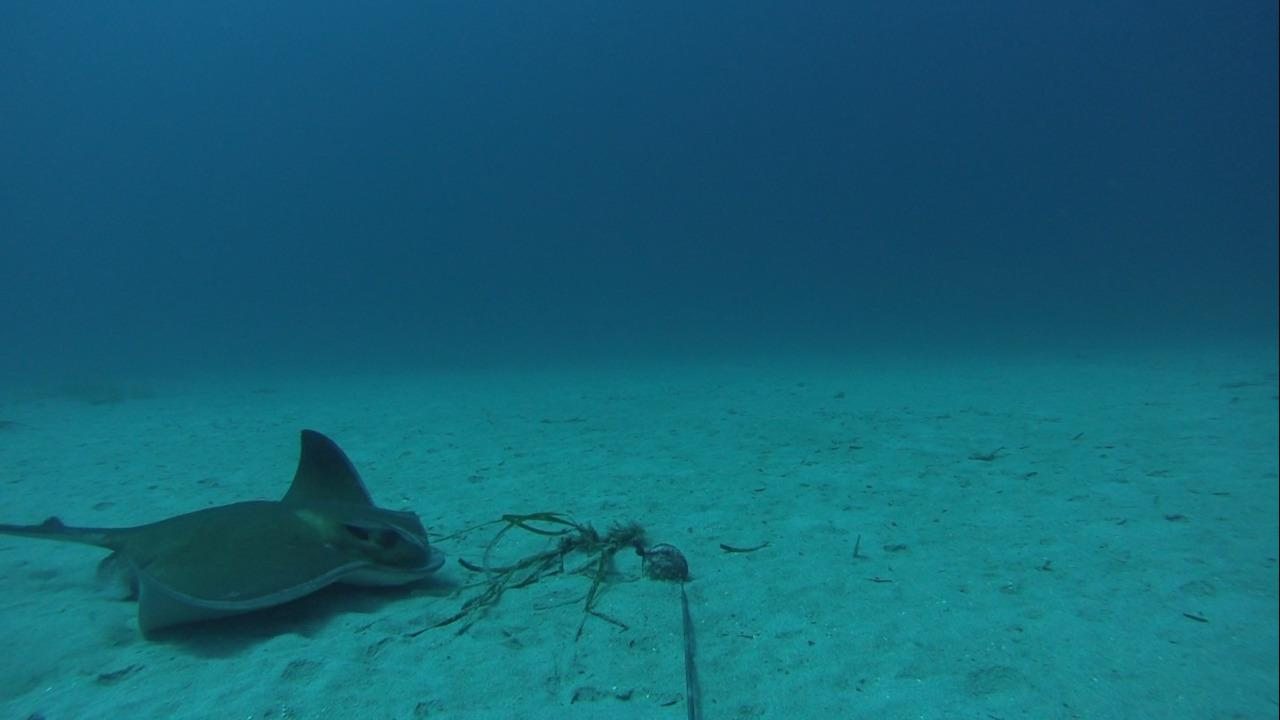myliobatis: (3, 421, 450, 645)
